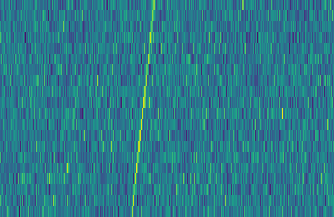signal: (127, 0, 159, 217)
